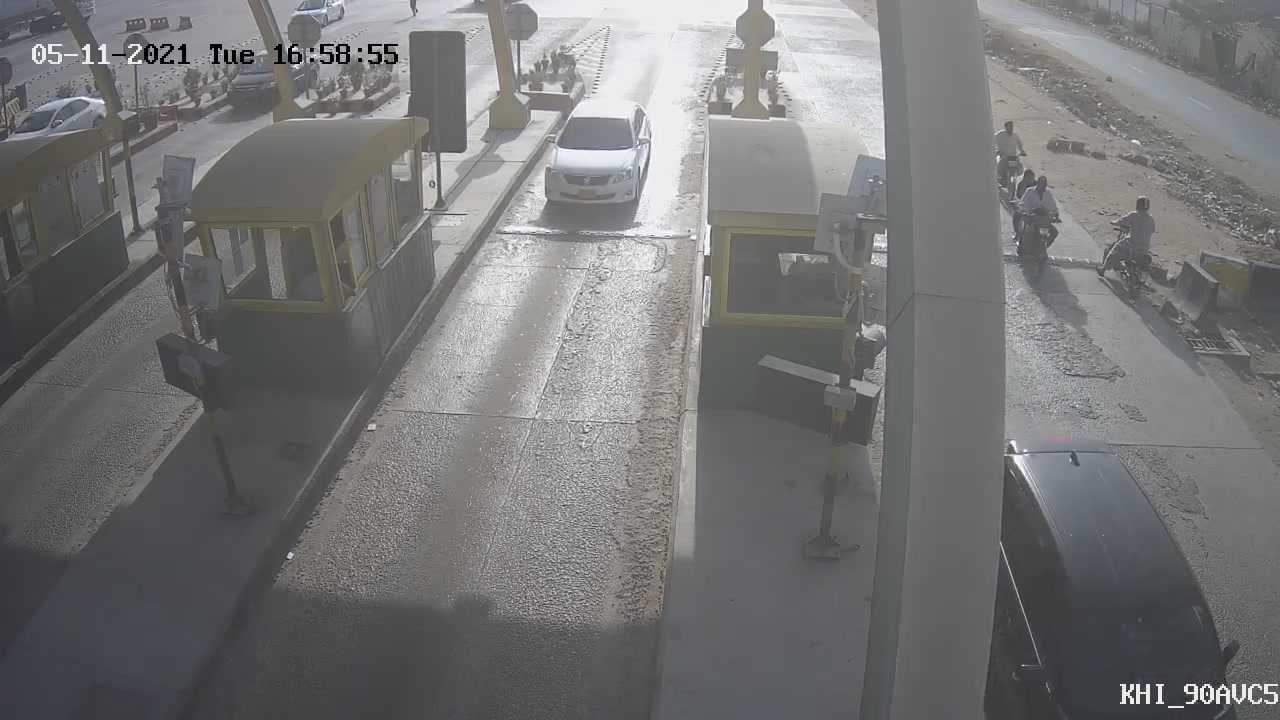F1: (524, 86, 669, 231)
